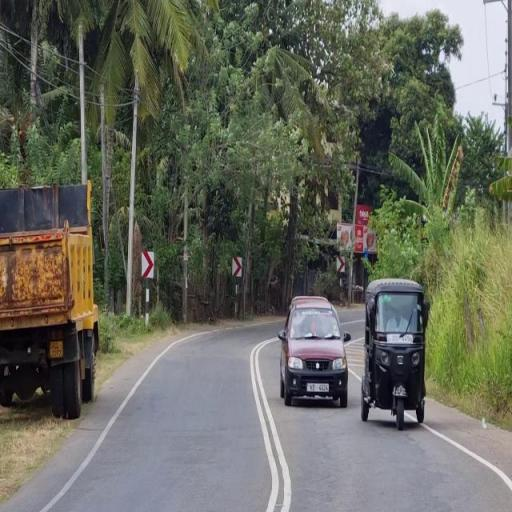double_white_line: (248, 335, 290, 511)
